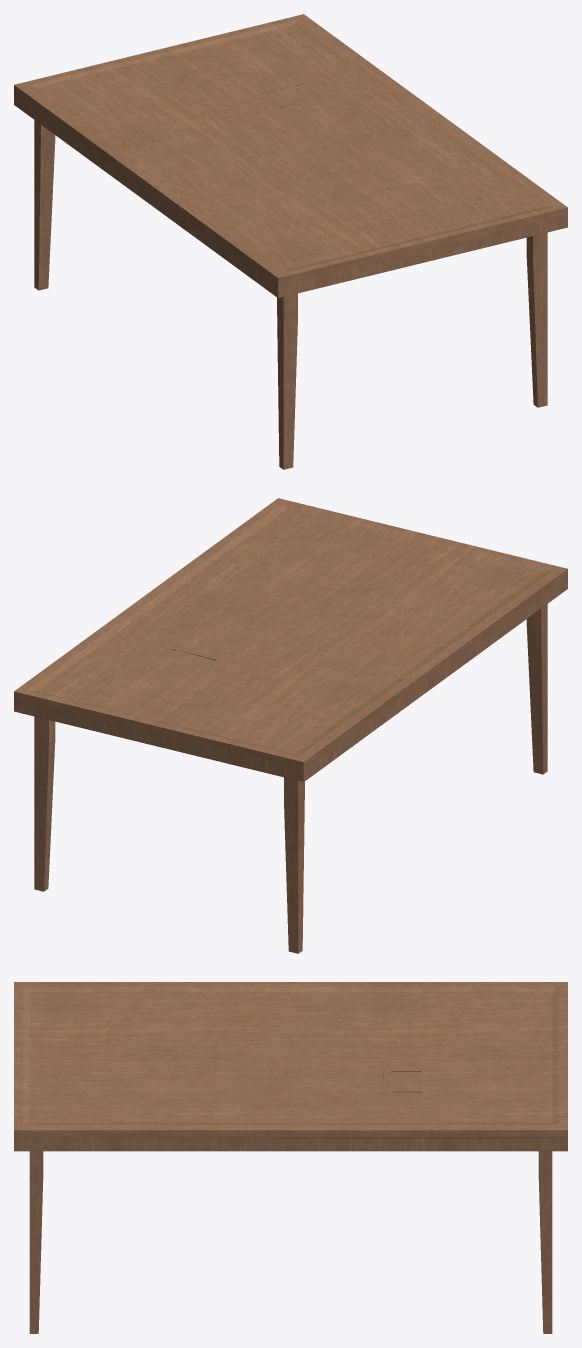
The model's file is table.fbx.
The picture shows the model from 3 angles, top to bottom: view 1: azimuth 30°, elevation 25°; view 2: azimuth 150°, elevation 25°; view 3: azimuth 270°, elevation 25°; orthographic projection. The views are drawn at different scales.
Visible parts, largest first — view 1: _Low Poly Dining Table; view 2: _Low Poly Dining Table; view 3: _Low Poly Dining Table.
Part boxes in pixels (left/top/right/bottom): _Low Poly Dining Table: left=14, top=14, right=567, bottom=469; _Low Poly Dining Table: left=14, top=498, right=567, bottom=953; _Low Poly Dining Table: left=14, top=982, right=567, bottom=1333.
Bounding box in the file's own units: 2082 × 1375 × 3287.
